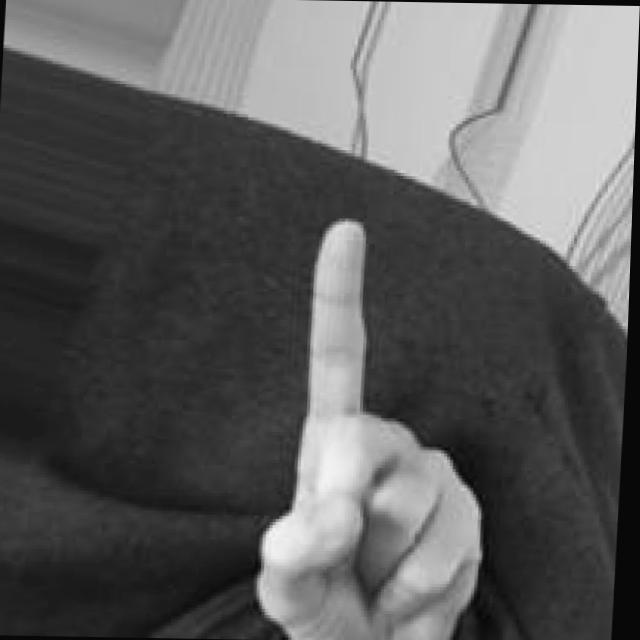I: (246, 210, 515, 640)
